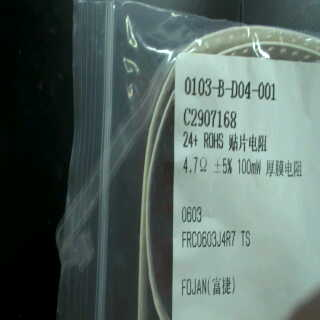4.7R: (175, 149, 210, 177)
